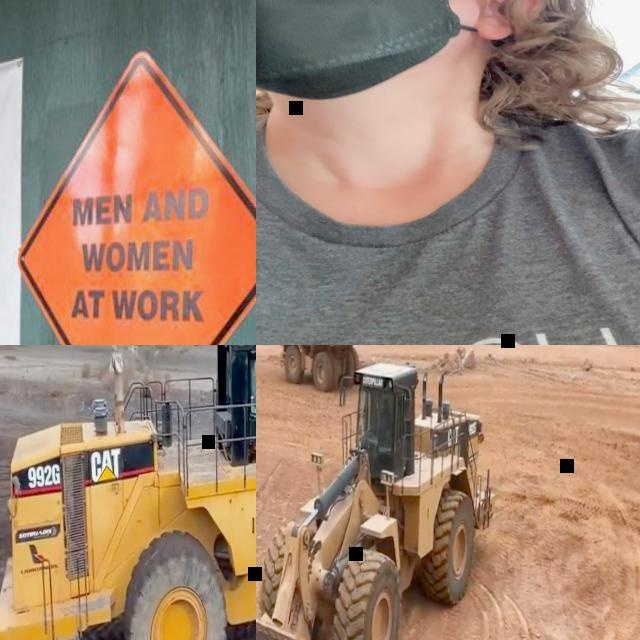Mask: (256, 0, 491, 102)
NO-Safety Vest: (256, 111, 640, 345), (248, 368, 256, 400)
Person: (256, 0, 640, 345), (0, 29, 105, 345), (377, 395, 392, 441), (249, 360, 256, 431)
machinery: (0, 345, 256, 640), (256, 346, 498, 640), (273, 345, 374, 396)
